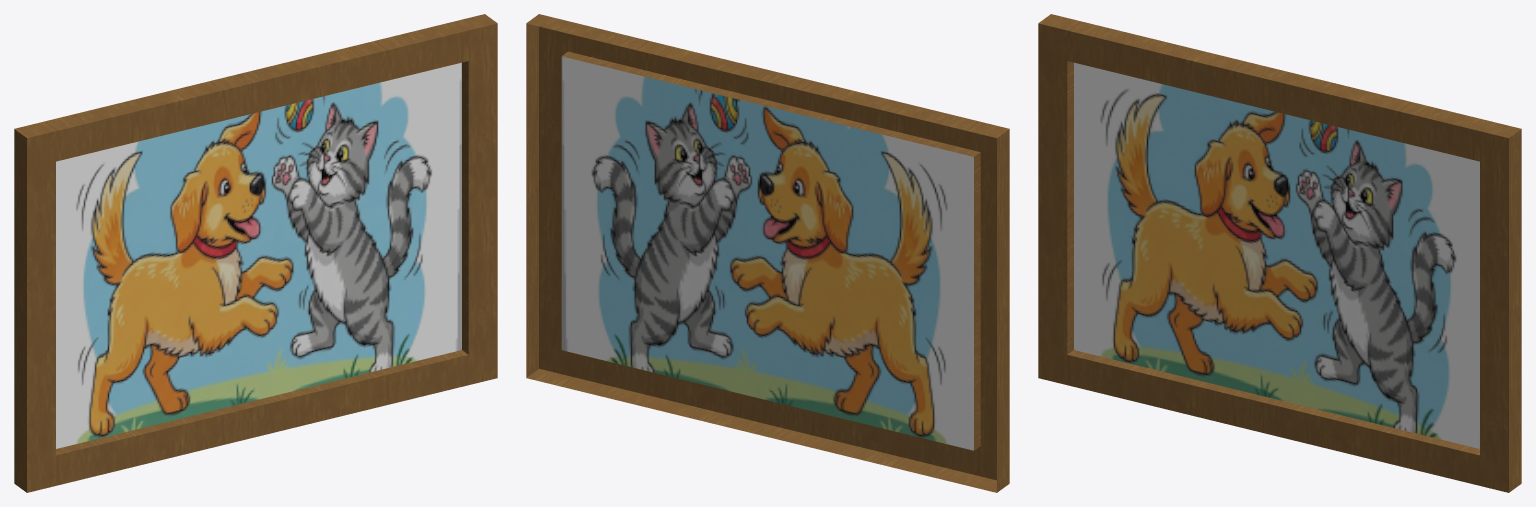
The model's file is team frame 2.fbx.
The picture shows the model from 3 angles, left to right: view 1: azimuth 30°, elevation 25°; view 2: azimuth 150°, elevation 25°; view 3: azimuth 330°, elevation 25°; orthographic projection.
Visible parts, largest first — view 1: frame_2; view 2: frame_2; view 3: frame_2.
Part boxes in pixels (left/top/right/bottom): frame_2: left=14, top=14, right=497, bottom=492; frame_2: left=526, top=14, right=1009, bottom=492; frame_2: left=1038, top=14, right=1521, bottom=492.
Bounding box in the file's own units: 249 × 179 × 11.8.
1 material, 1 textured.
